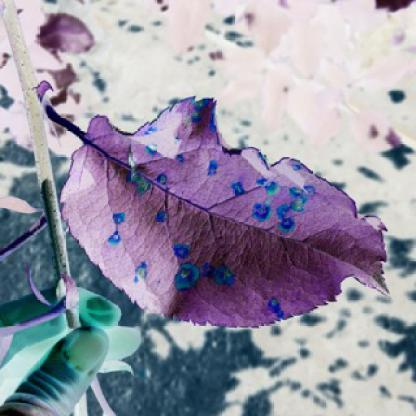apple rust leaf: (56, 83, 402, 339)
